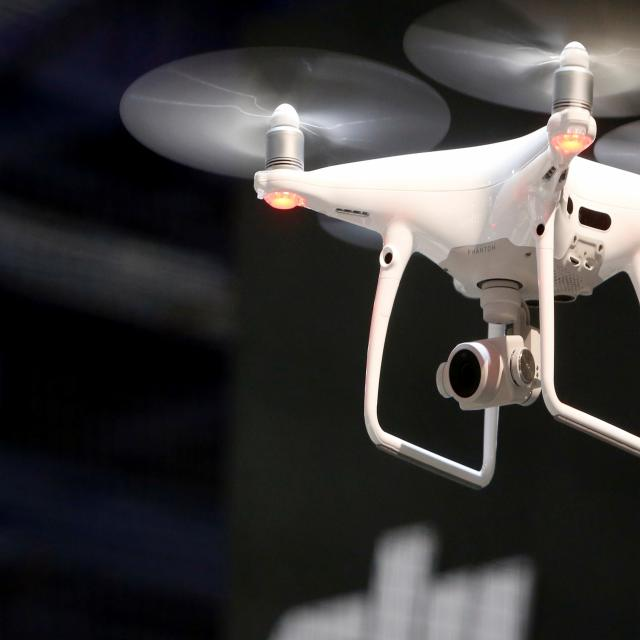drone: (137, 6, 640, 454)
